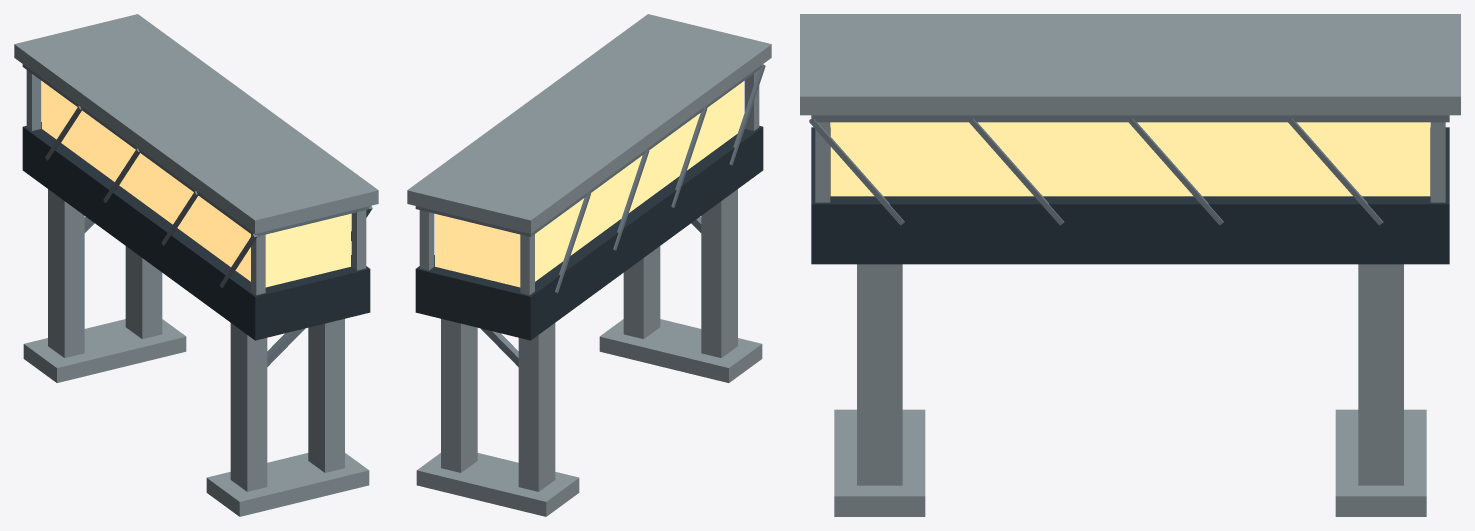
The model's file is vrx_city_bridge_a_LOD1.fbx.
3 renders of one model, left to right at view 1: azimuth 30°, elevation 25°; view 2: azimuth 150°, elevation 25°; view 3: azimuth 270°, elevation 25°, orthographic. The views are drawn at different scales.
Visible parts, largest first — view 1: vrx_city_bridge_a_LOD1; view 2: vrx_city_bridge_a_LOD1; view 3: vrx_city_bridge_a_LOD1.
Part boxes in pixels (x1,y1,x2,y2): vrx_city_bridge_a_LOD1: (14, 14, 378, 516); vrx_city_bridge_a_LOD1: (407, 14, 771, 516); vrx_city_bridge_a_LOD1: (800, 14, 1460, 516).
Size of the model in its own units: 9 by 20.25 by 29.
